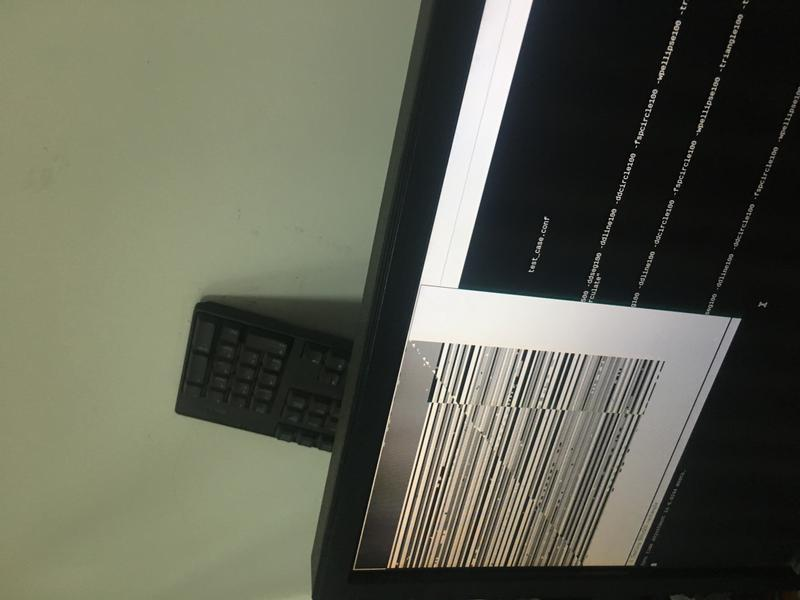xrandr_pass: (357, 264, 751, 572)
